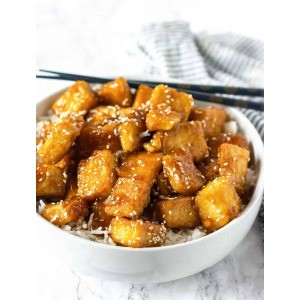tofu_brain food: (40, 83, 260, 251)
